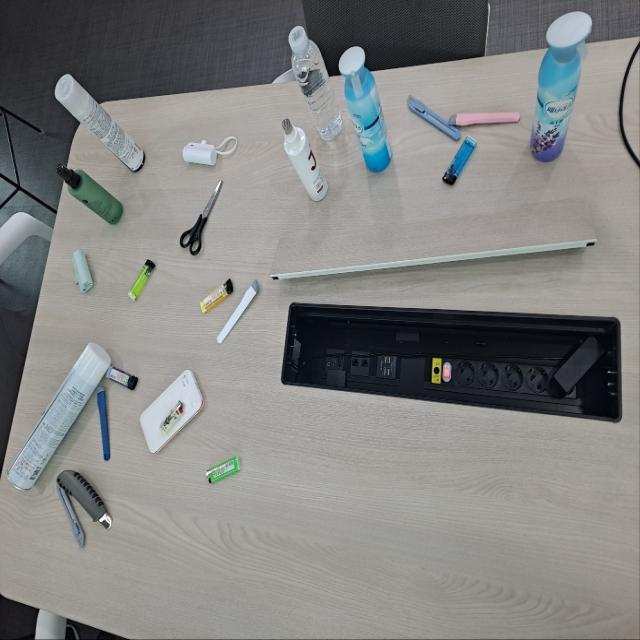cutter: (57, 464, 115, 534), (216, 270, 264, 352), (400, 86, 463, 140), (52, 482, 90, 552), (125, 249, 158, 305), (95, 382, 117, 466), (446, 106, 526, 128), (200, 272, 238, 316)
lighter: (439, 135, 487, 189), (200, 448, 246, 486), (158, 393, 188, 435), (106, 362, 144, 394)
portable_charger: (138, 364, 210, 458), (67, 245, 101, 298), (181, 132, 225, 171)
scissors: (180, 175, 230, 262)
spray: (8, 338, 112, 498), (528, 8, 594, 175), (51, 70, 152, 176), (337, 44, 398, 178), (55, 160, 130, 228), (279, 114, 332, 202)
water: (280, 22, 347, 144)
